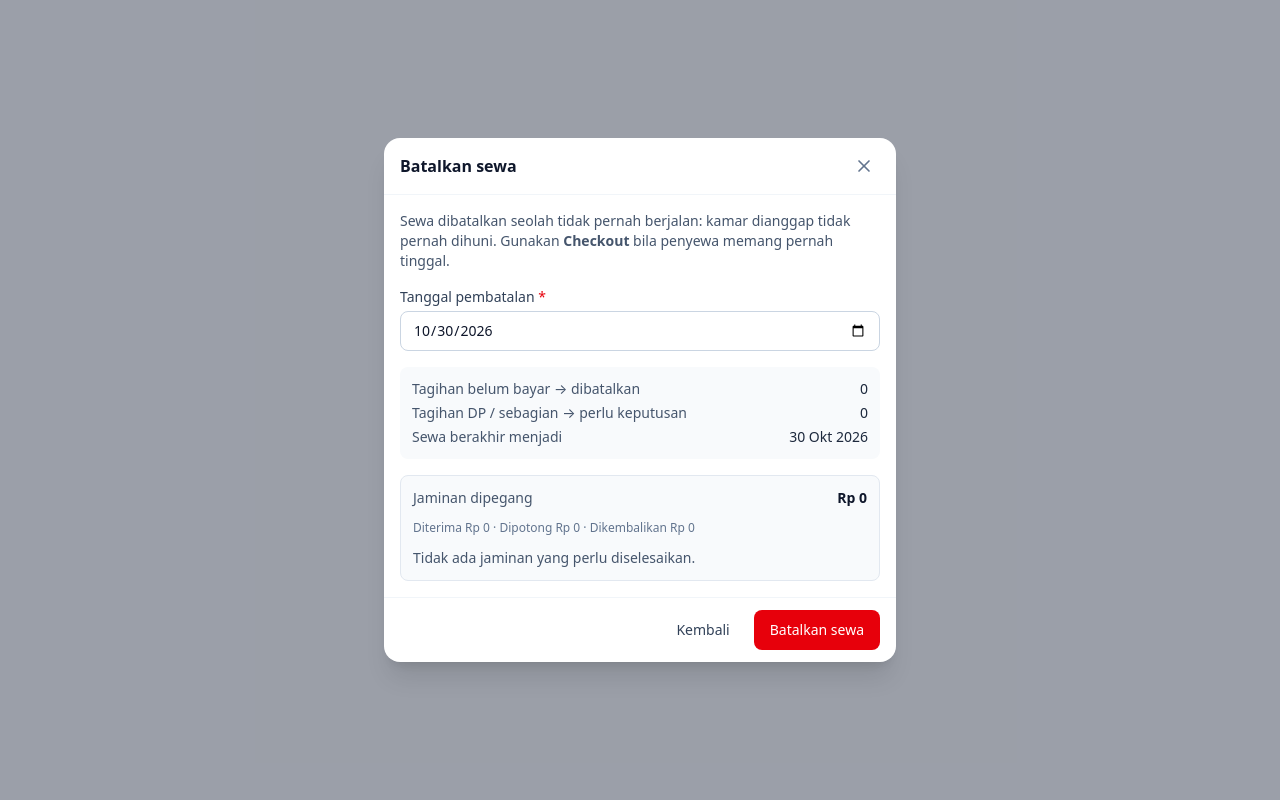
Test: CancelLeaseModal preview (SPEC 7.3) › says no night was stayed exactly when the saved row will show none (cancel up to the day after the start)
Type "2026-10-10" into the date field labelled "Tanggal pembatalan *" at (640, 331), box [400,311,880,351]
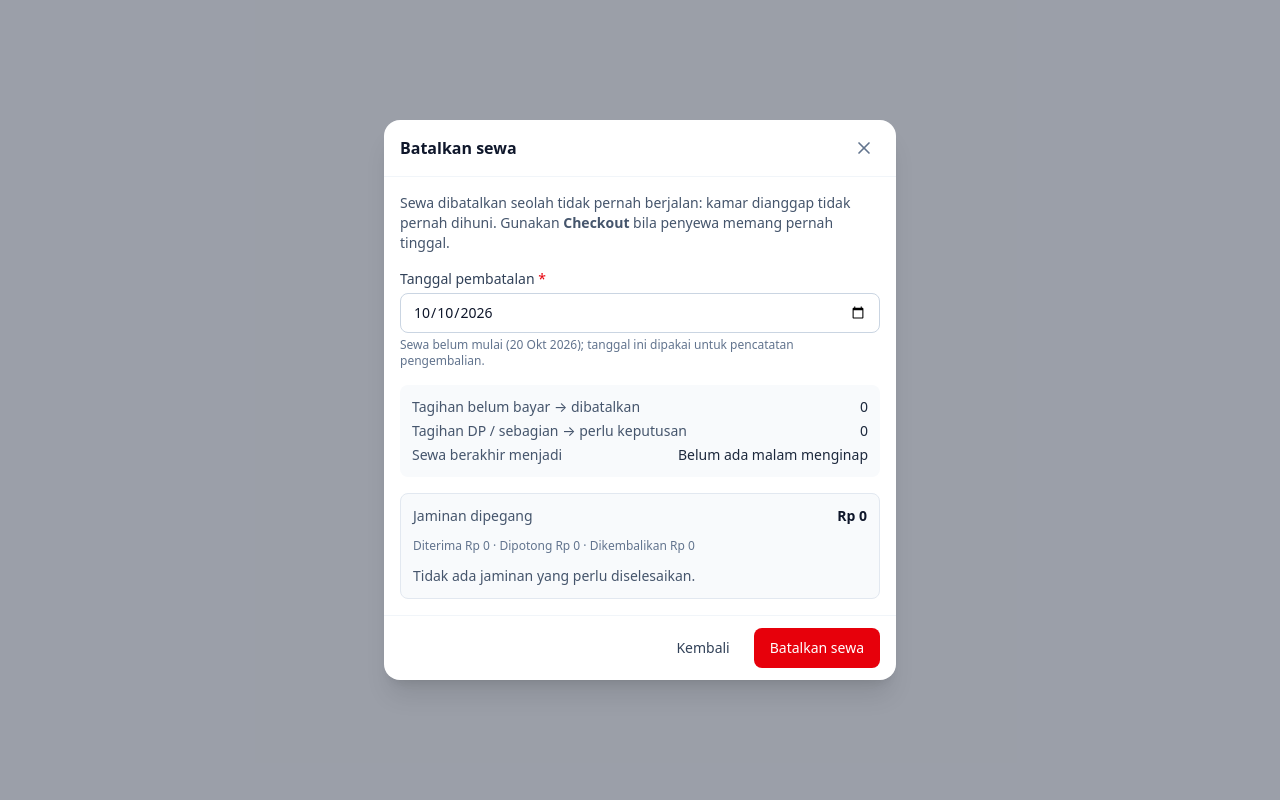
Result: the text "Belum ada malam menginap" is shown at [678,445,868,465]
Type "2026-10-20" into the date field labelled "Tanggal pembatalan *" at (640, 313), box [400,293,880,333]
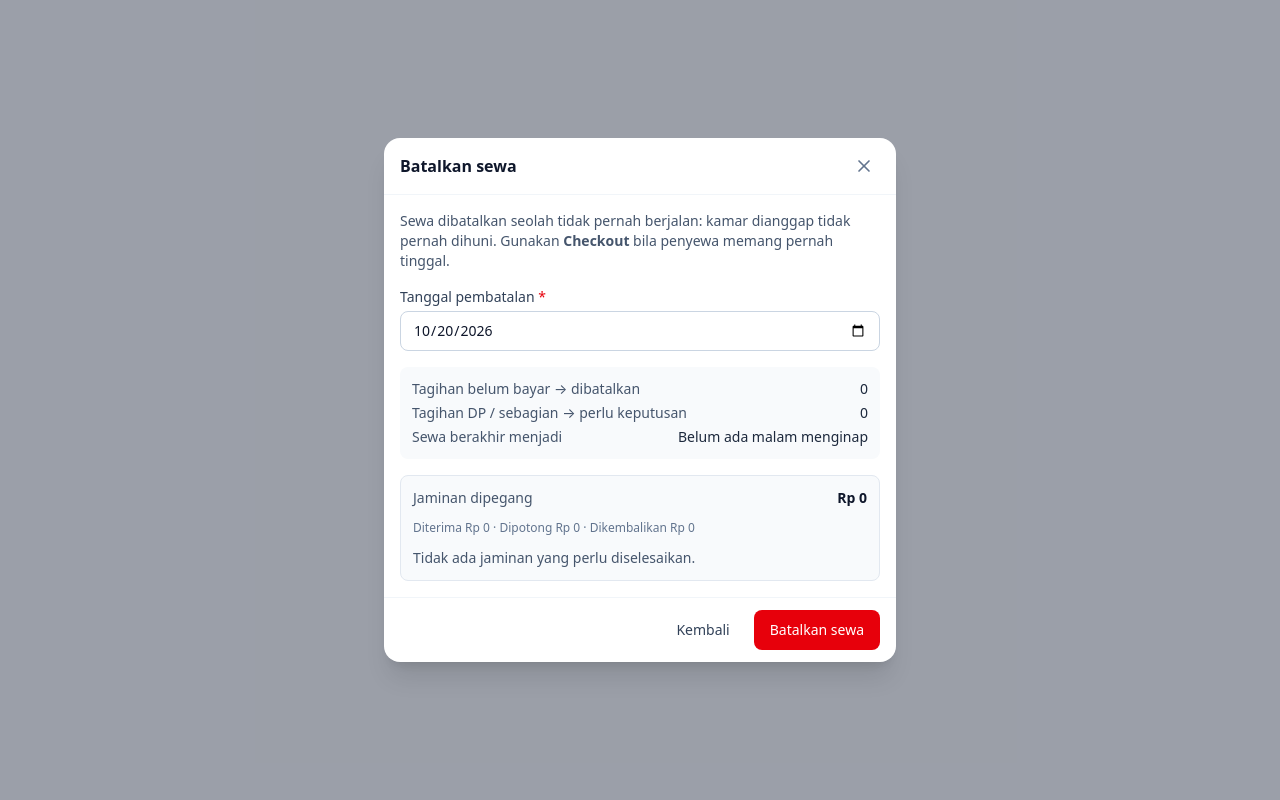
Result: the text "Belum ada malam menginap" is shown at [678,427,868,447]
Type "2026-10-21" into the date field labelled "Tanggal pembatalan *" at (640, 331), box [400,311,880,351]
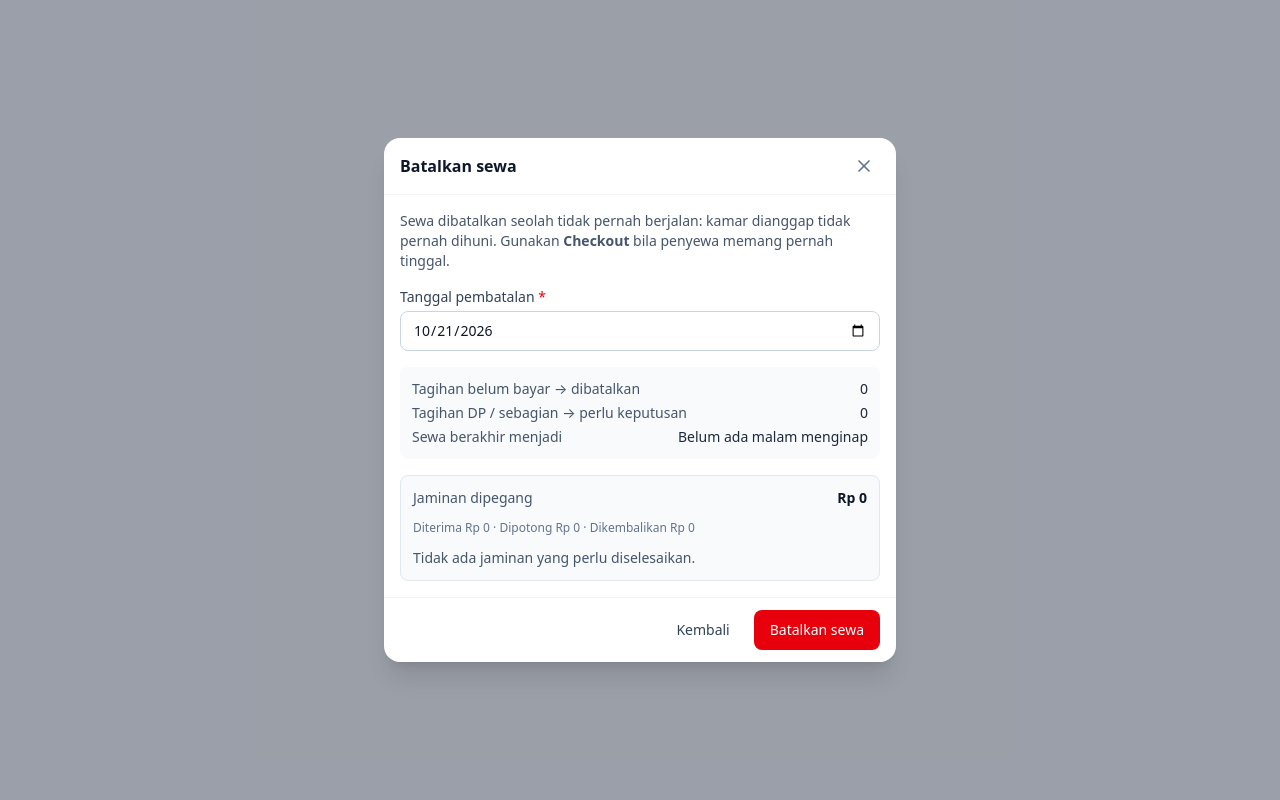
Result: the text "Belum ada malam menginap" is shown at [678,427,868,447]
Type "2026-10-22" into the date field labelled "Tanggal pembatalan *" at (640, 331), box [400,311,880,351]
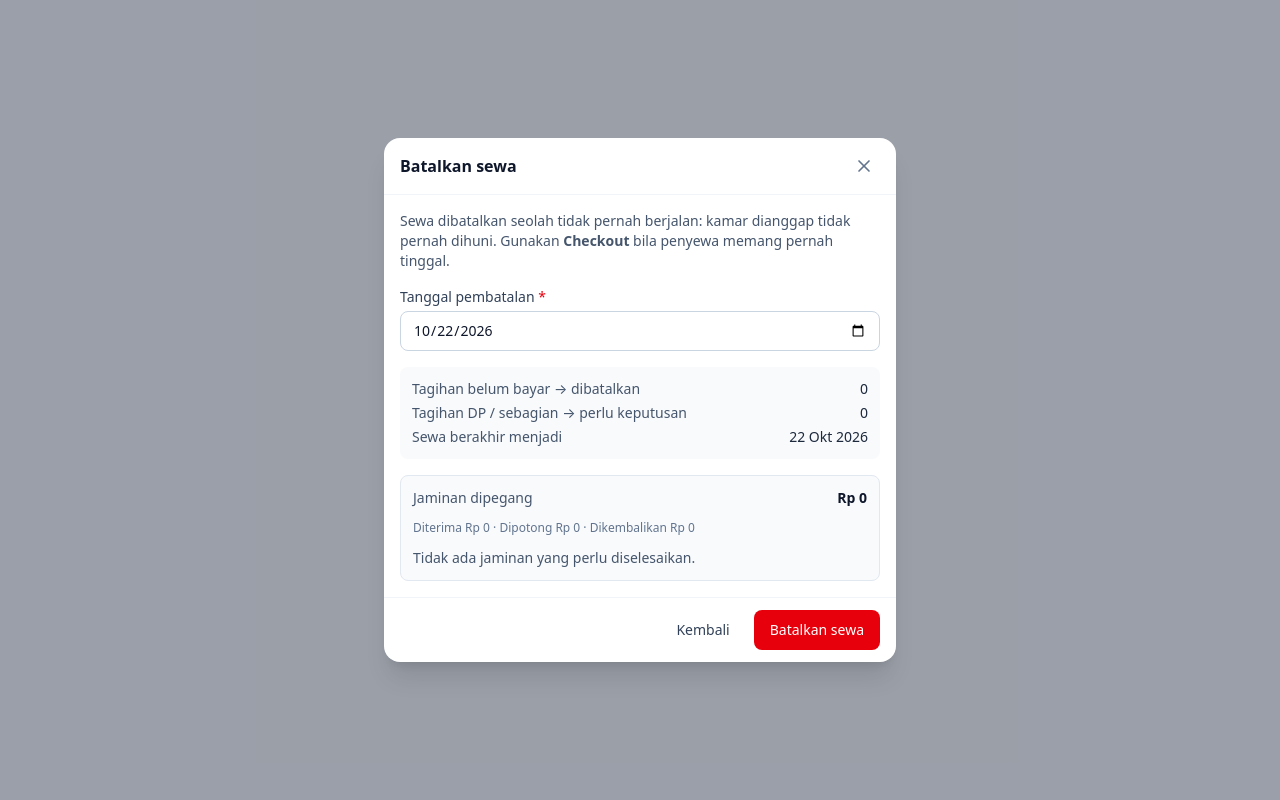
Result: the text "22 Okt 2026" is shown at [789,427,868,447]
